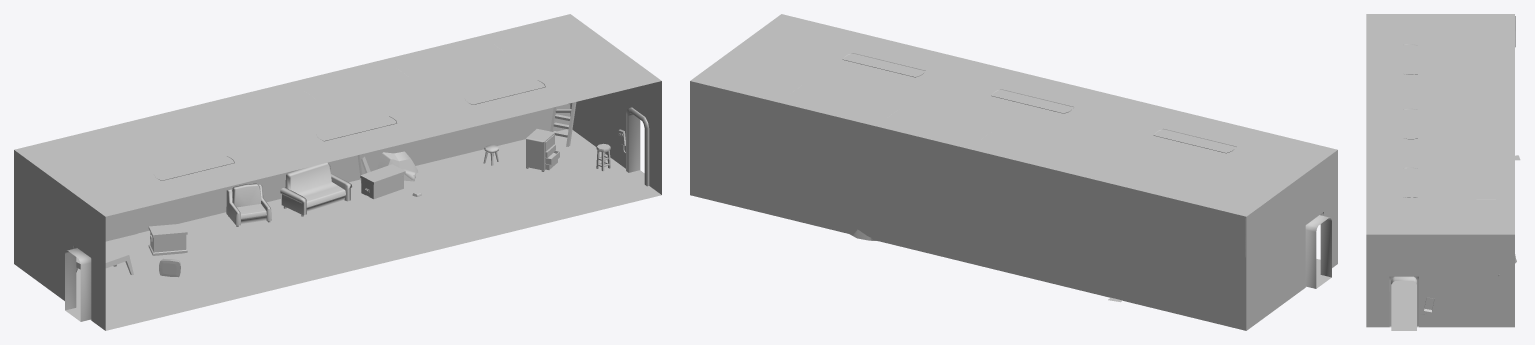
The model's file is MSH_QuestIndustrial_L2_R3_optimized.fbx.
3 views of the same model, side by side, from view 1: azimuth 30°, elevation 25°; view 2: azimuth 150°, elevation 25°; view 3: azimuth 270°, elevation 25° (orthographic). The views are drawn at different scales.
Parts seen in each view (by area): view 1: lightmap2, lightmap3, lightmap1, lightmap0; view 2: lightmap2, lightmap3, lightmap1; view 3: lightmap3, lightmap2, lightmap1.
Boxes of the visible parts, x1,y1,x2,y2 form: lightmap2: [14, 81, 661, 330]; lightmap3: [14, 14, 661, 216]; lightmap1: [65, 80, 649, 321]; lightmap0: [357, 102, 625, 199]; lightmap2: [690, 81, 1337, 330]; lightmap3: [690, 14, 1337, 216]; lightmap1: [842, 53, 1331, 302]; lightmap3: [1366, 14, 1514, 234]; lightmap2: [1366, 234, 1514, 327]; lightmap1: [1389, 44, 1520, 330].
Bounding box in the file's own units: 30.91 × 6.08 × 8.83.
